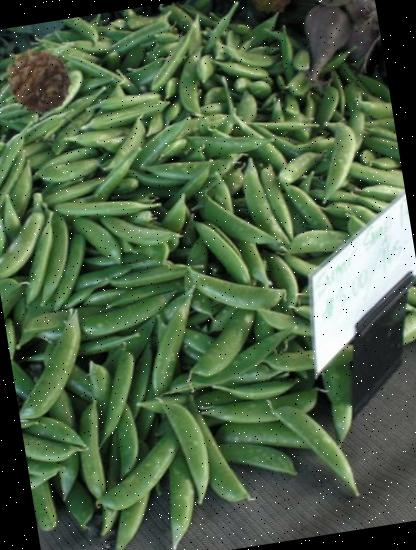Pineapple: (0, 41, 78, 121)
